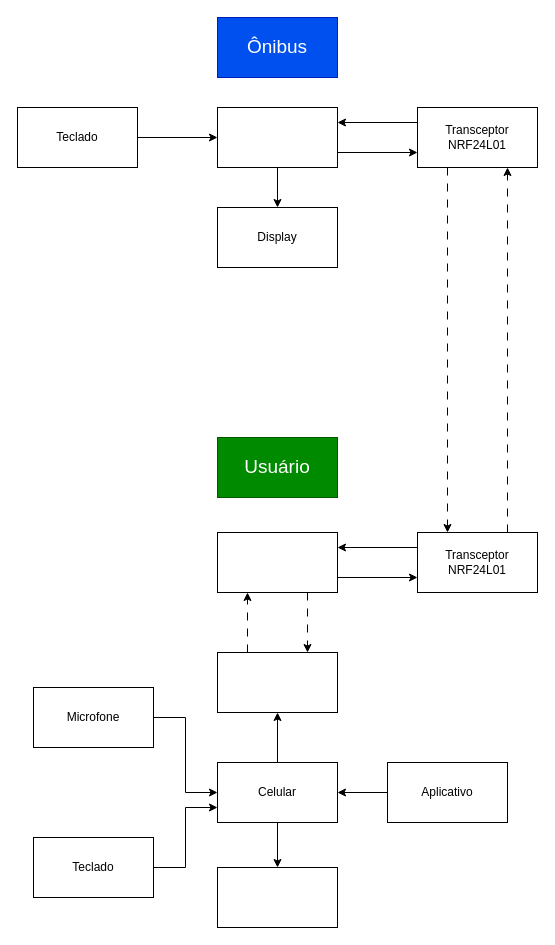
The diagram is 555 pixels wide and 945 high, and some of its shapes have lost their labels. The centre of each missing label's shape, as x and y in pixels:
"Bluetoth" belongs at [277,682].
"Microcontrolador ESP32" belongs at [277,562].
"Microcontrolador PIC" belongs at [277,137].
"Som" belongs at [277,897].
